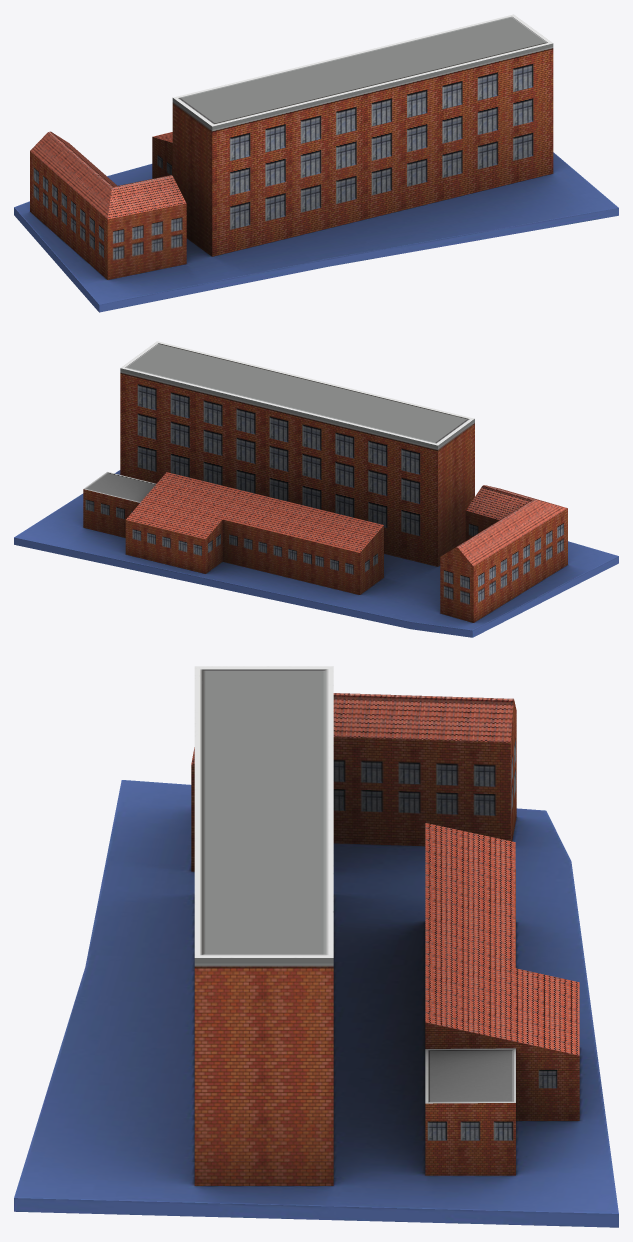
File: cyhe.gltf
3 views of the same model, one above another, from view 1: azimuth 30°, elevation 25°; view 2: azimuth 150°, elevation 25°; view 3: azimuth 270°, elevation 25° (orthographic). The views are drawn at different scales.
Visible parts, largest first — view 1: pCube2, pCube1, pCube5, pCube3; view 2: pCube2, pCube3, pCube1, pCube5, pCube4; view 3: pCube1, pCube2, pCube3, pCube5, pCube4.
Boxes of the visible parts, x1,y1,x2,y2 form: pCube2: (172, 14, 553, 256); pCube1: (14, 152, 618, 312); pCube5: (30, 131, 186, 279); pCube3: (152, 132, 172, 178); pCube2: (120, 341, 474, 566); pCube3: (125, 472, 383, 594); pCube1: (14, 470, 618, 637); pCube5: (440, 485, 567, 622); pCube4: (83, 472, 156, 537); pCube1: (14, 780, 618, 1227); pCube2: (194, 666, 333, 1185); pCube3: (425, 823, 579, 1120); pCube5: (191, 693, 516, 871); pCube4: (425, 1048, 515, 1175).
Size of the model in its own units: 15.44 by 4.01 by 9.09.
Materials: 1 (1 with a texture image).
